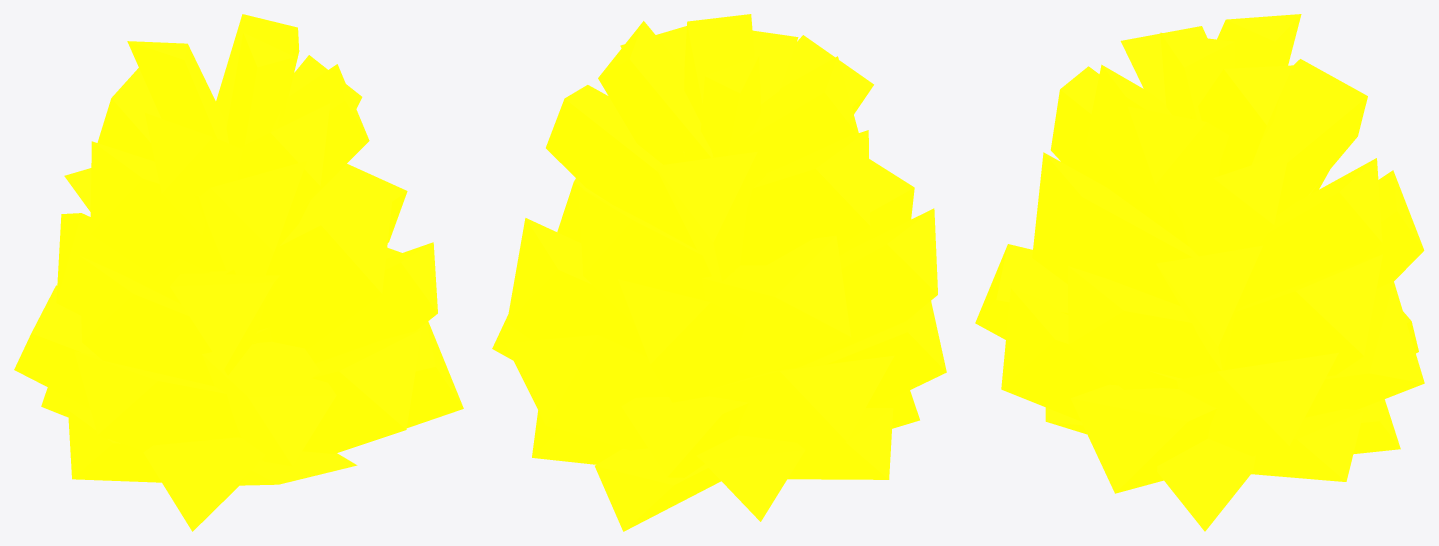
Rendered from pinecone.glb.
3 renders of one model, left to right at view 1: azimuth 30°, elevation 25°; view 2: azimuth 150°, elevation 25°; view 3: azimuth 270°, elevation 25°, orthographic. The views are drawn at different scales.
Parts seen in each view (by area): view 1: pinecone; view 2: pinecone; view 3: pinecone.
Boxes of the visible parts, x1,y1,x2,y2 form: pinecone: (14,14,463,531); pinecone: (492,14,946,531); pinecone: (975,14,1424,531).
Size of the model in its own units: 0.1 by 0.1132 by 0.1054.
1 material, 1 textured.
